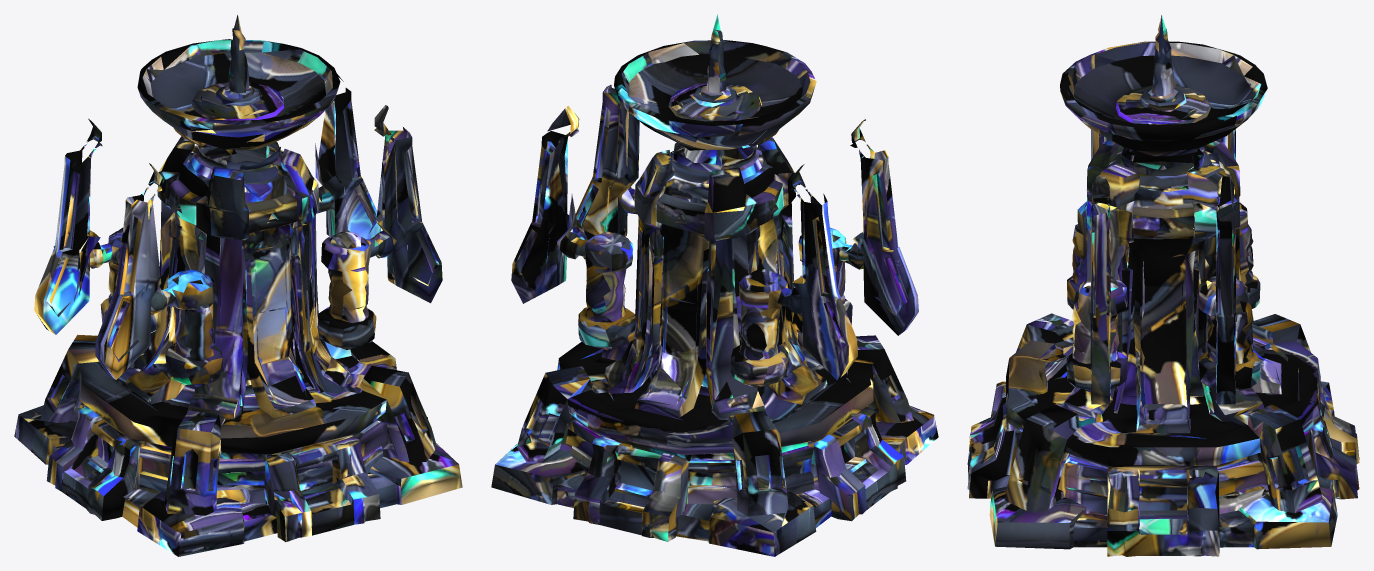
The model's file is tower_relay_3d_LOD1.fbx.
3 renders of one model, left to right at view 1: azimuth 30°, elevation 25°; view 2: azimuth 150°, elevation 25°; view 3: azimuth 270°, elevation 25°, orthographic. The views are drawn at different scales.
Parts seen in each view (by area): view 1: Base, Dish; view 2: Base, Dish; view 3: Base, Dish.
Part boxes in pixels (left/top/right/bottom): Base: left=14, top=88, right=462, bottom=556; Dish: left=86, top=15, right=391, bottom=191; Base: left=491, top=85, right=938, bottom=556; Dish: left=547, top=14, right=865, bottom=192; Base: left=967, top=129, right=1359, bottom=556; Dish: left=1060, top=14, right=1267, bottom=209.
Size of the model in its own units: 98.56 by 125 by 96.37.
